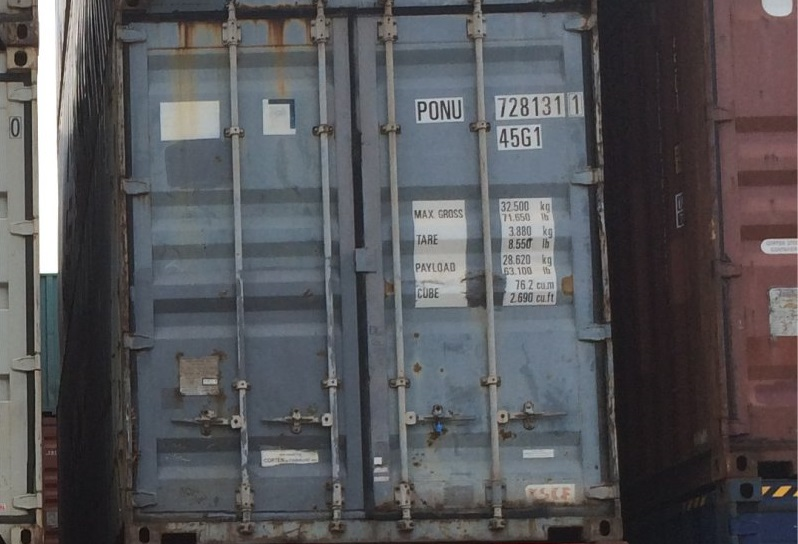container_door: (118, 12, 623, 541)
